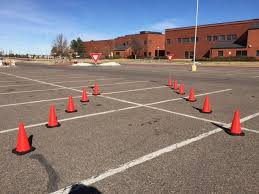yield: (89, 51, 103, 61), (165, 53, 175, 62)
